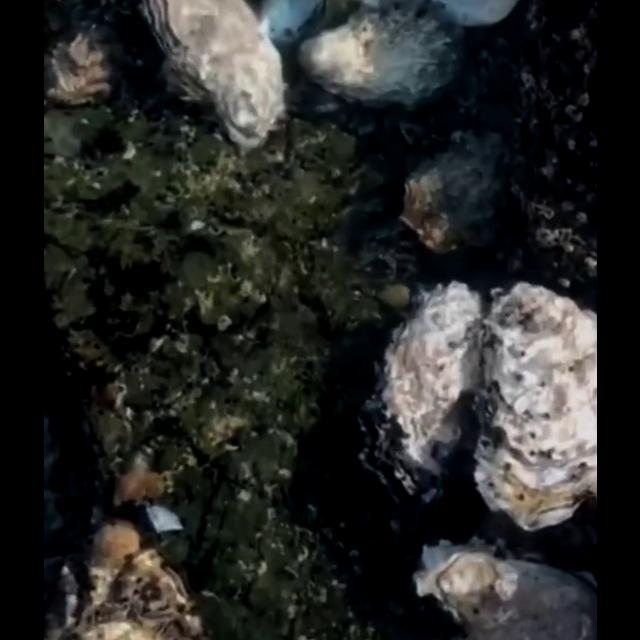Oyster-Closed: (472, 278, 596, 532), (138, 0, 287, 152), (411, 535, 596, 640), (44, 518, 202, 640), (296, 2, 458, 114), (399, 132, 511, 258), (43, 0, 130, 110), (256, 0, 328, 50)
Oyster-Open: (354, 277, 484, 511)
